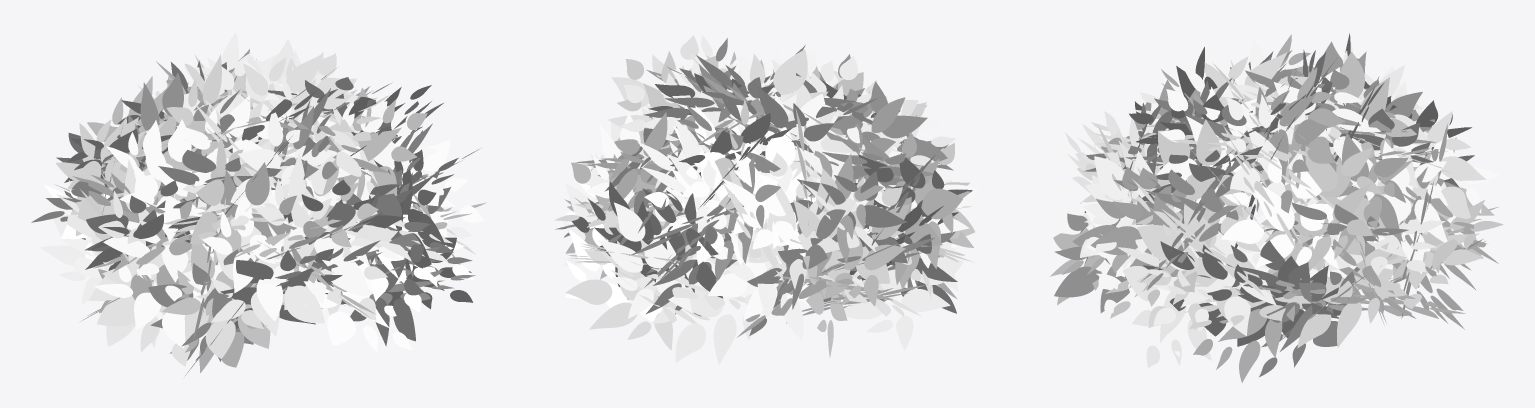
Rendered from arbustos.fbx.
The picture shows the model from 3 angles, left to right: view 1: azimuth 30°, elevation 25°; view 2: azimuth 150°, elevation 25°; view 3: azimuth 270°, elevation 25°; orthographic projection. The views are drawn at different scales.
Visible parts, largest first — view 1: Textura hojas.001; view 2: Textura hojas.001; view 3: Textura hojas.001.
Boxes of the visible parts, x1,y1,x2,y2 form: Textura hojas.001: (31,32,486,375); Textura hojas.001: (554,34,978,365); Textura hojas.001: (1044,33,1503,382).
Size of the model in its own units: 664 by 436 by 662.
